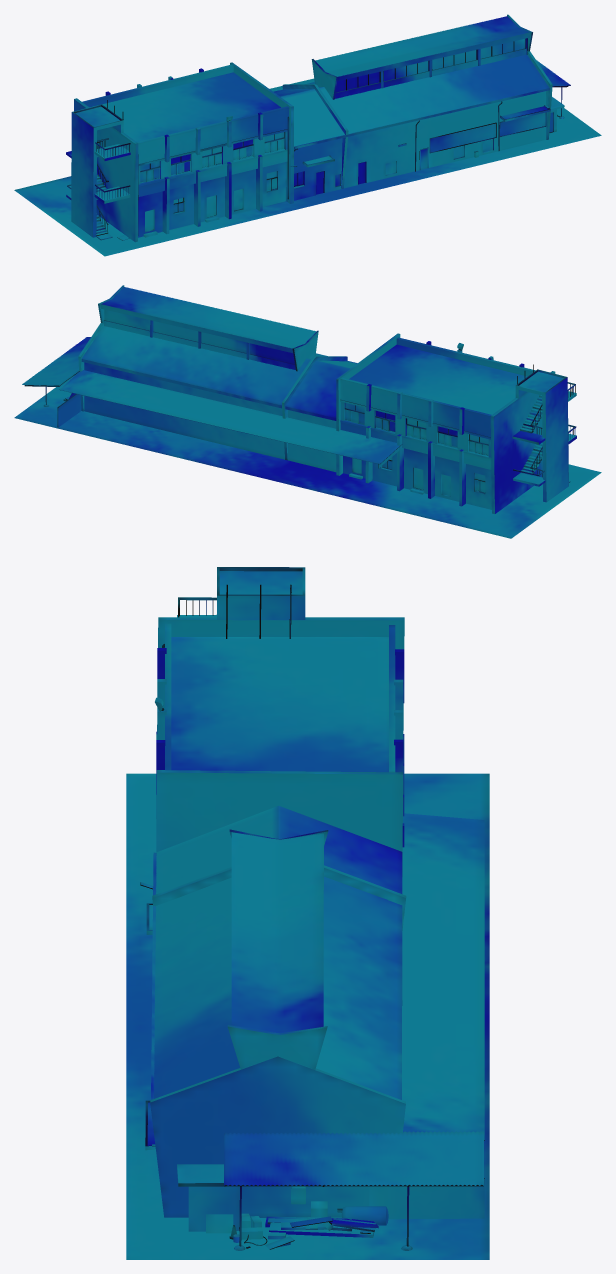
3 views of the same model, one above another, from view 1: azimuth 30°, elevation 25°; view 2: azimuth 150°, elevation 25°; view 3: azimuth 270°, elevation 25° (orthographic). The views are drawn at different scales.
Parts seen in each view (by area): view 1: %h1%_Baked; view 2: %h1%_Baked; view 3: %h1%_Baked.
Part boxes in pixels (x1=…): %h1%_Baked: x1=14, y1=14, x2=601, y2=256; %h1%_Baked: x1=14, y1=285, x2=601, y2=538; %h1%_Baked: x1=126, y1=567, x2=489, y2=1259.
Size of the model in its own units: 173 by 38.95 by 54.57.
Materials: 1 (1 with a texture image).
